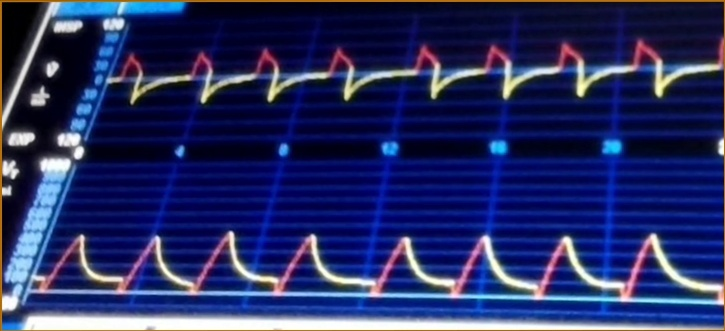Flow: (120, 31, 717, 129)
Leakage Volume: (52, 205, 719, 310)
